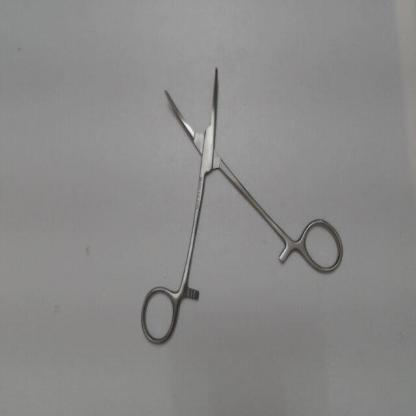Crile Artery Forceps: (134, 59, 347, 353)
